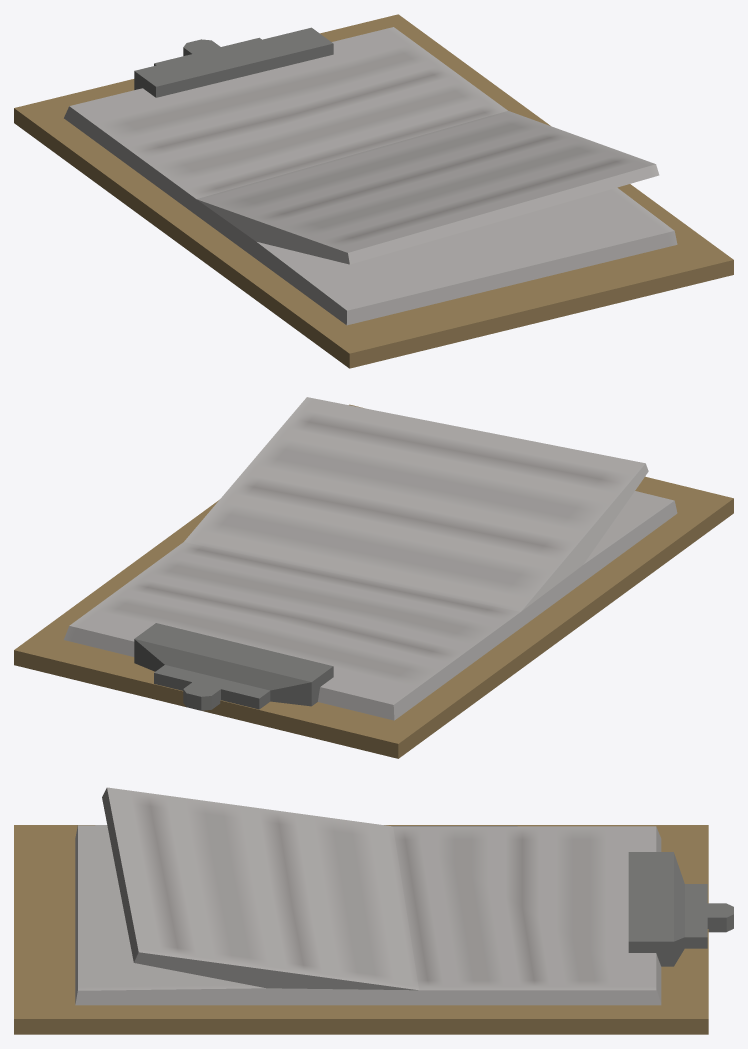
File: SM_Item_Clipboard_01.fbx
3 views of the same model, one above another, from view 1: azimuth 30°, elevation 25°; view 2: azimuth 150°, elevation 25°; view 3: azimuth 270°, elevation 25° (orthographic). The views are drawn at different scales.
Parts seen in each view (by area): view 1: SM_Item_Clipboard_01; view 2: SM_Item_Clipboard_01; view 3: SM_Item_Clipboard_01.
Boxes of the visible parts, x1,y1,x2,y2 form: SM_Item_Clipboard_01: (14, 14, 733, 368); SM_Item_Clipboard_01: (14, 397, 733, 758); SM_Item_Clipboard_01: (14, 787, 733, 1034).
Bounding box in the file's own units: 27.58 × 4.96 × 43.22.
